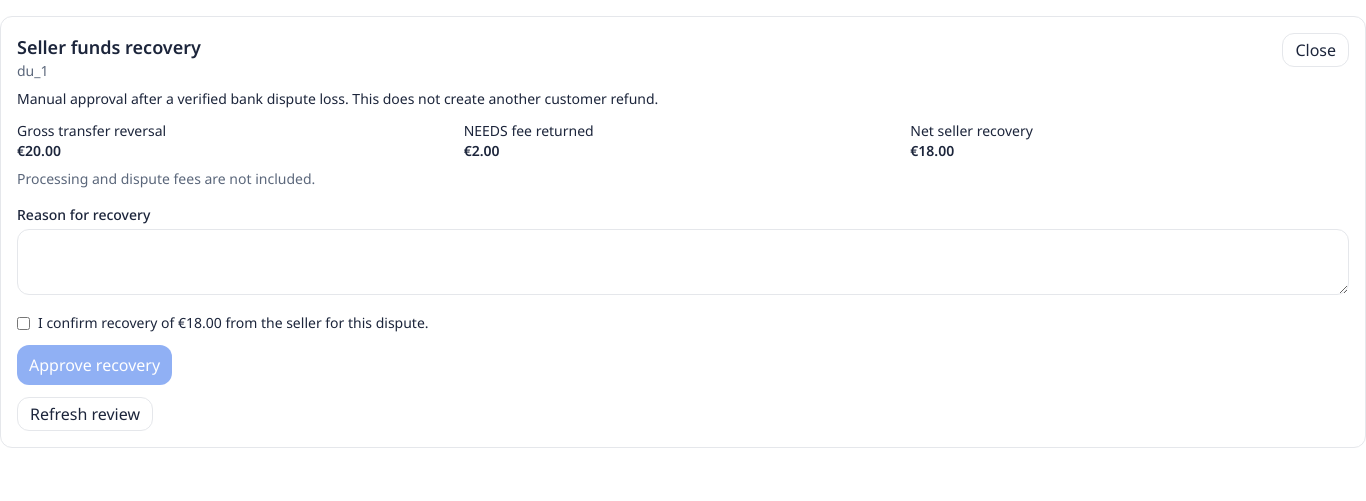
Test: admin-approved seller recovery › shows pending honestly and retries the same approved preview only after a new confirmation
The width and height of the screenshot is (1366, 501).
Expected: the text "€18.00" is shown, [910,141,954,160]
Type "Confirmed bank loss" into the text box labelled "Reason for recovery".
click(683, 262); type("Confirmed bank loss")  # box [17,229,1349,295]
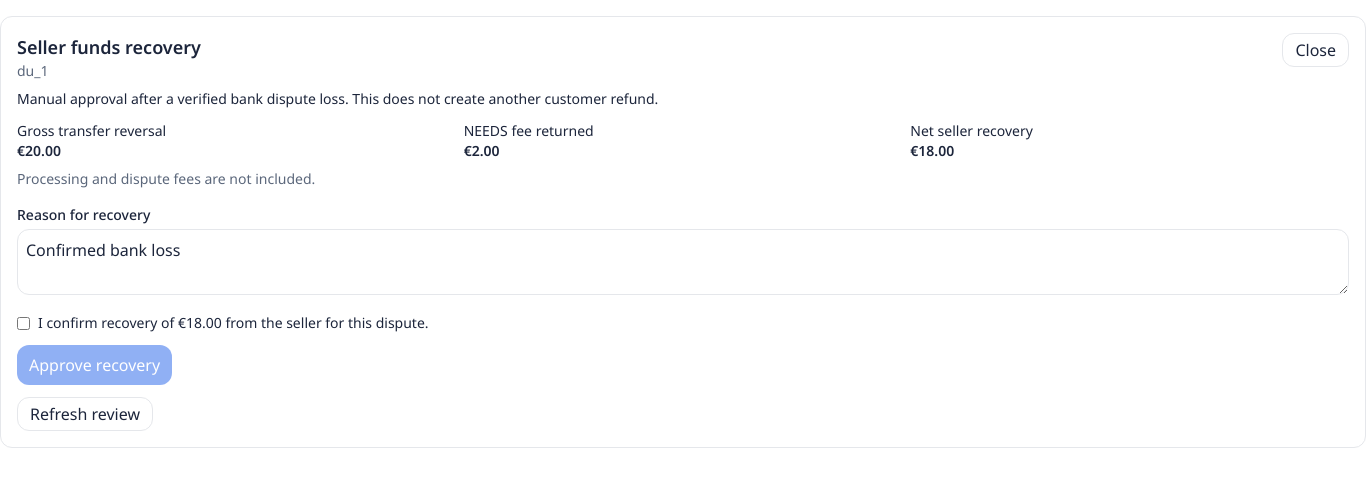
Click the checkbox.
click(24, 324)  # box [17,317,30,330]
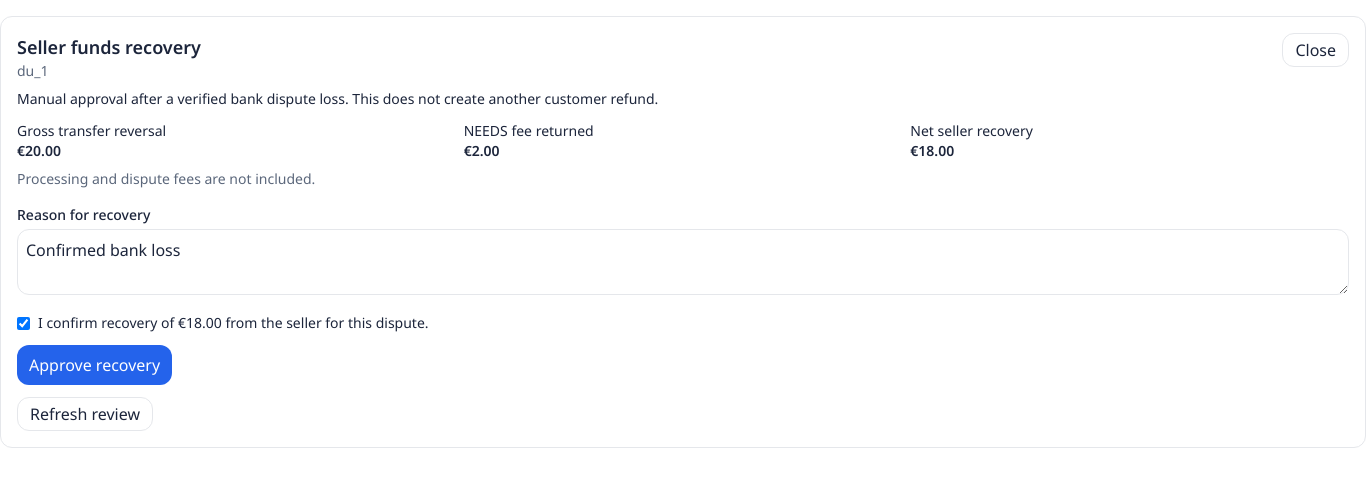
Click the button "Approve recovery".
click(95, 365)  # box [17,345,172,385]
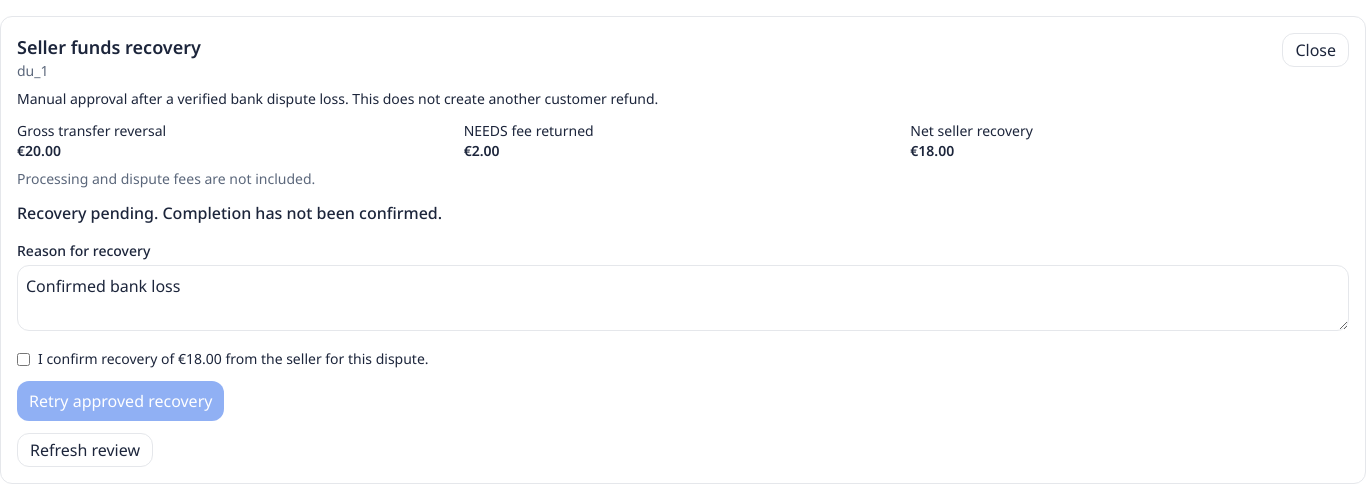
Result: the message reads "Recovery pending. Completion has not been confirmed." at [17,202,442,224]
Result: the button "Retry approved recovery" is disabled at [17,381,224,421]
Click the checkbox.
click(24, 360)  # box [17,353,30,366]
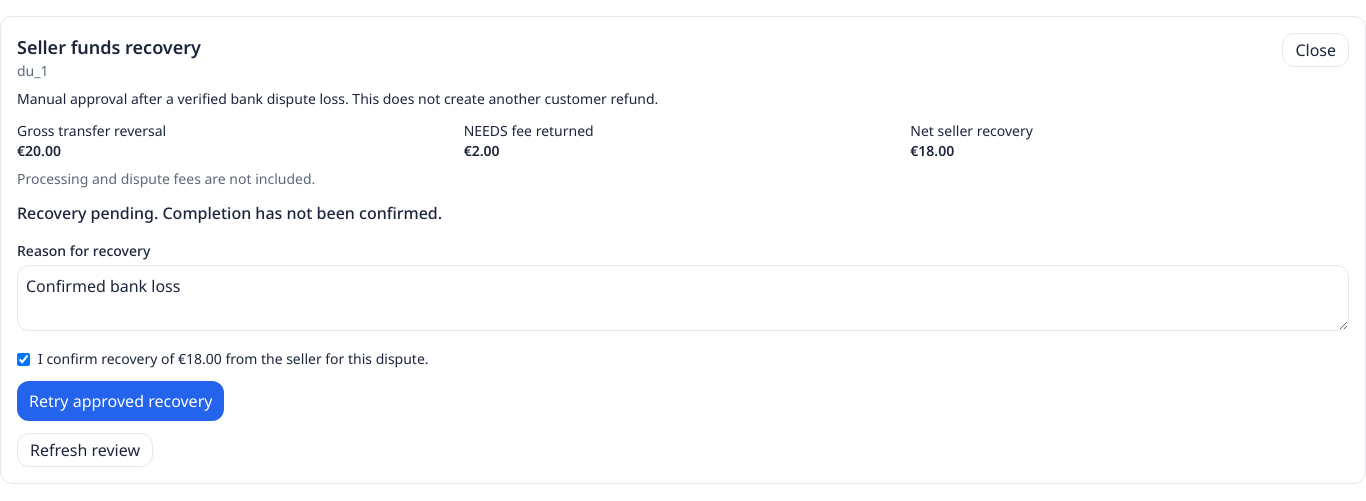
Result: the button "Retry approved recovery" is enabled at [17,381,224,421]
